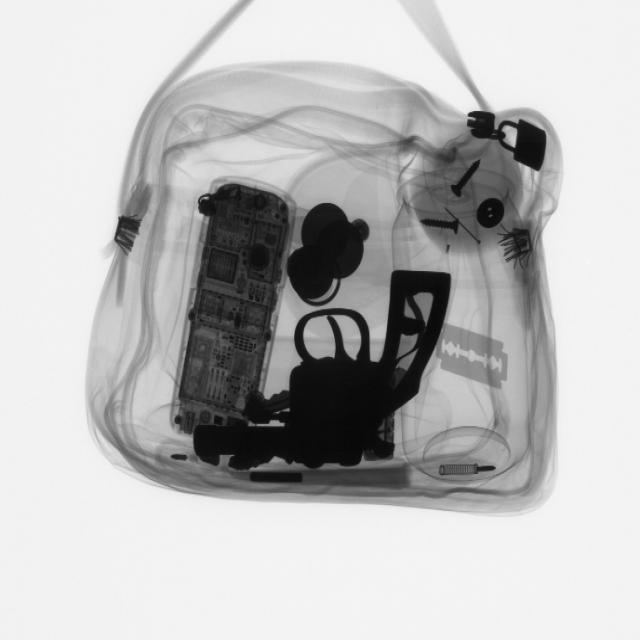BLADE: (435, 324, 514, 393)
GUN: (198, 260, 449, 467)
SCREW: (447, 158, 488, 203), (417, 211, 466, 241)
